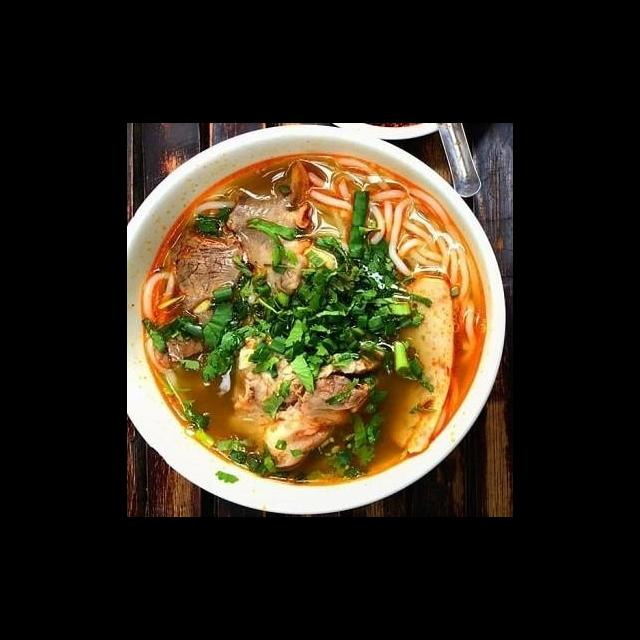bun: (304, 150, 482, 364), (136, 266, 189, 393)
bun bo: (132, 144, 513, 517)
thit bo: (223, 177, 312, 301), (170, 213, 246, 330), (163, 301, 239, 366)
